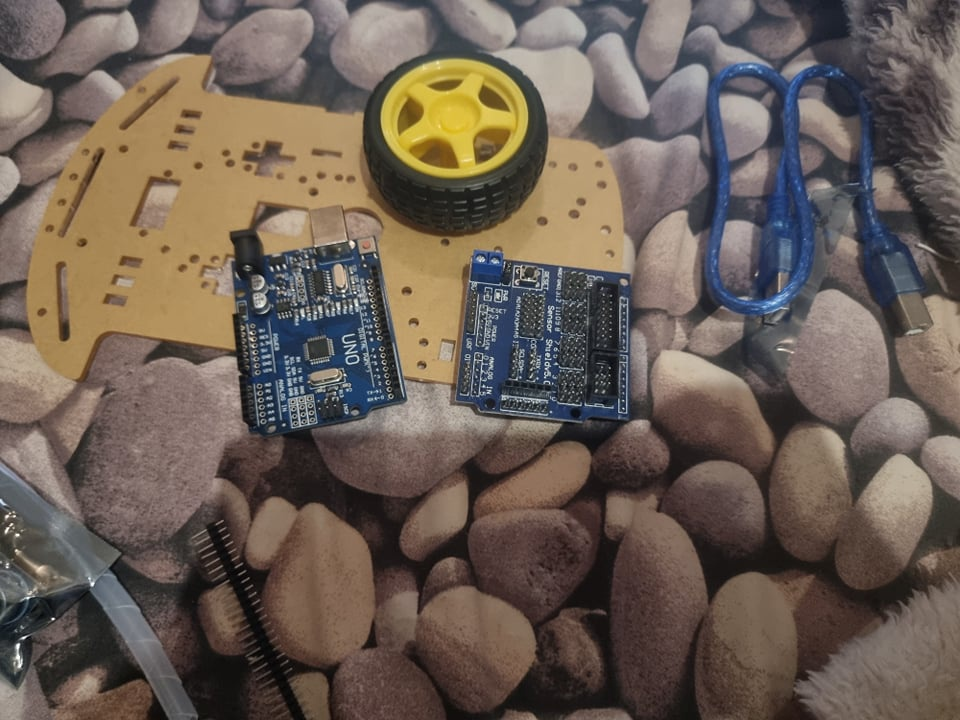5V EXPANSION: (457, 250, 631, 423)
UNO R3: (228, 206, 408, 436)
